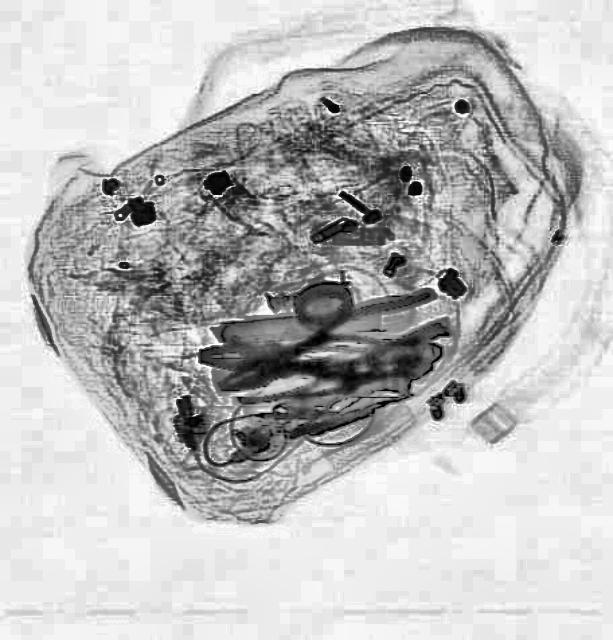Pliers: (206, 278, 450, 414)
